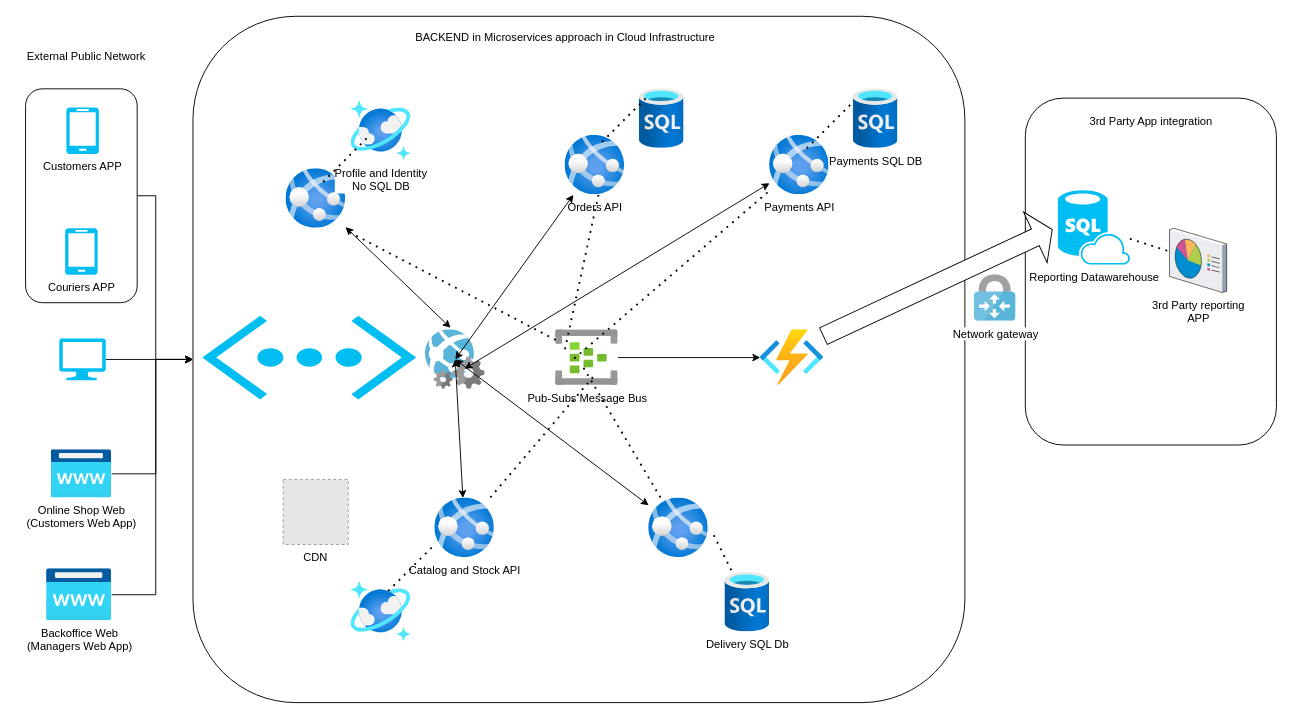
Some shapes in this 1293 by 719 pixel diagram are drawn without their labels. Grey dashed boxes stand in for pictures. Here are the shapes that lost their labels. From the top down, the centre of each, then its label:
point 661,118: Orders SQL DB
point 315,198: Profile and Authentication API
point 82,359: Warehouse App (Storage and Delivery Desktop)
point 455,359: API GATEWAY
point 791,357: Reporting Functions App
point 678,527: Delivery API
point 380,611: Catalog and Stock No SQL DB
